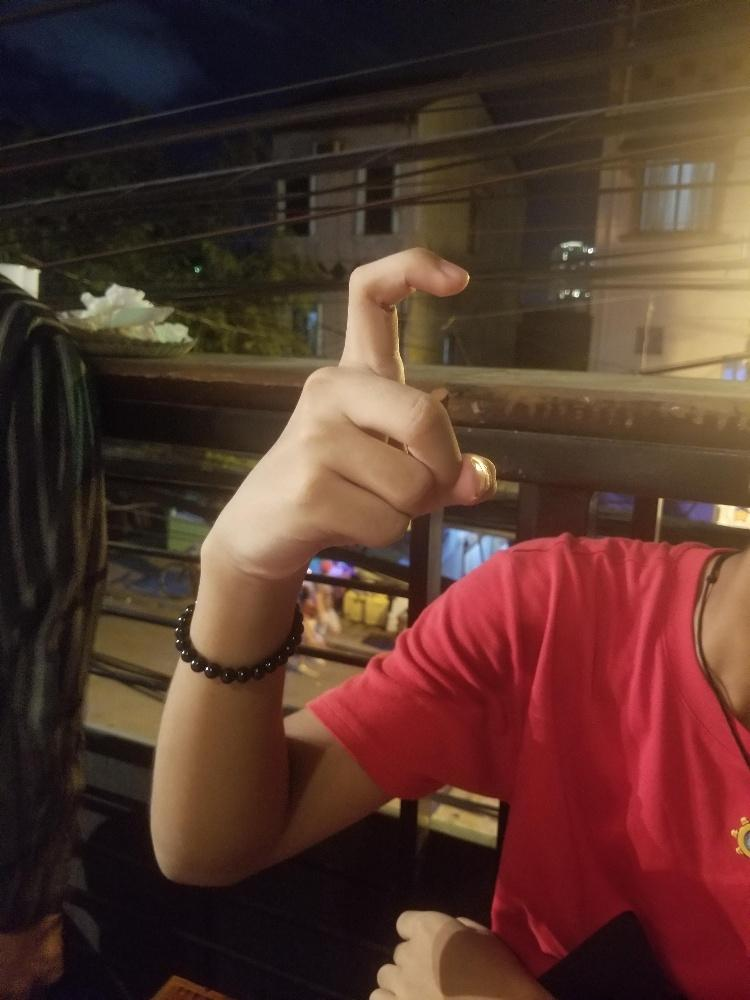x: (238, 245, 497, 570)
